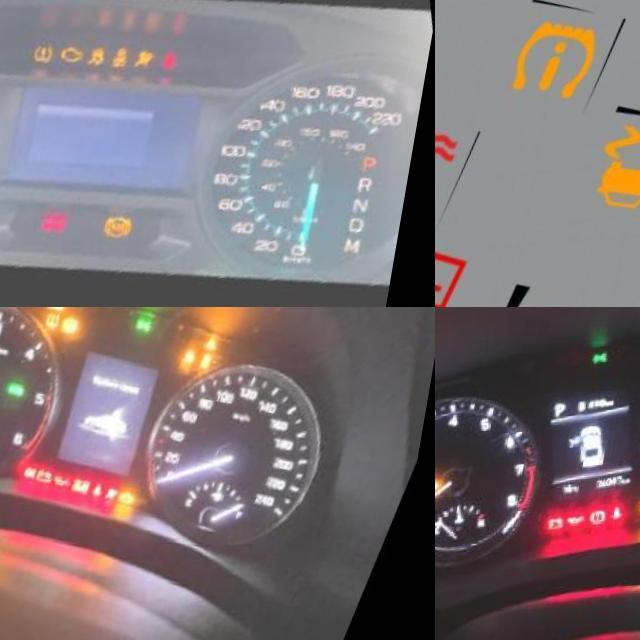Seat Belt: (616, 510, 631, 525)
